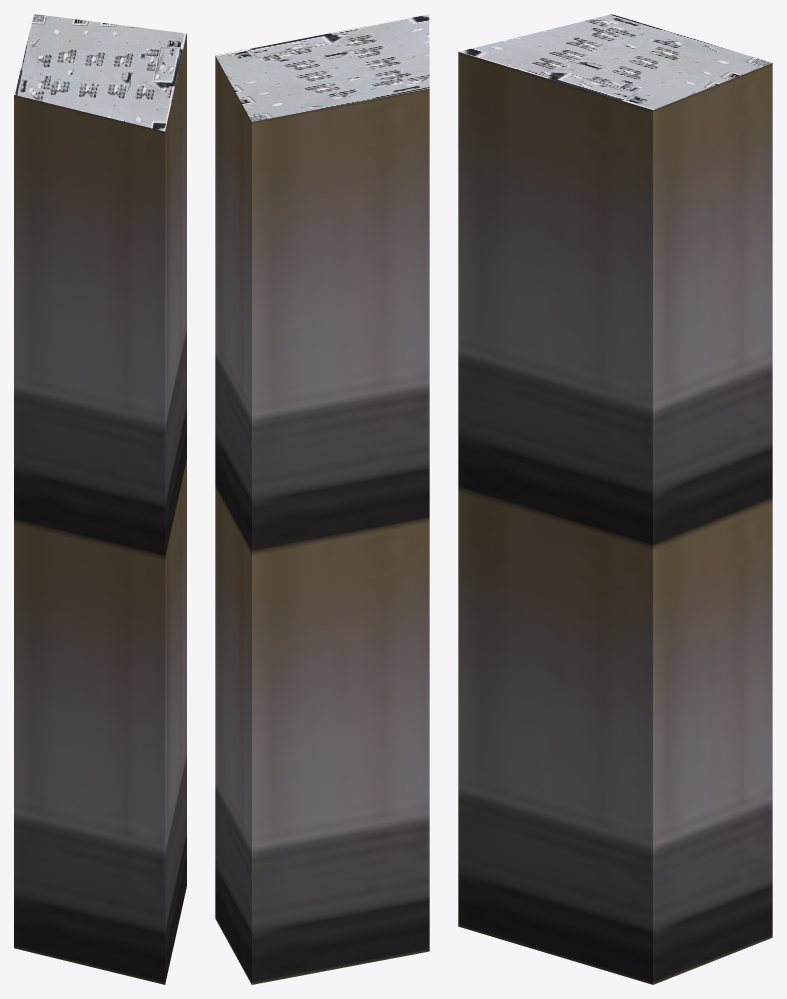
Rendered from ResTex__4313.fbx.
3 views of the same model, side by side, from view 1: azimuth 30°, elevation 25°; view 2: azimuth 150°, elevation 25°; view 3: azimuth 270°, elevation 25° (orthographic). The views are drawn at different scales.
Parts seen in each view (by area): view 1: CityEngineMaterial_5_m, CityEngineMaterial_8_m; view 2: CityEngineMaterial_5_m, CityEngineMaterial_8_m; view 3: CityEngineMaterial_5_m, CityEngineMaterial_8_m.
Boxes of the visible parts, x1,y1,x2,y2 form: CityEngineMaterial_5_m: [14, 34, 186, 984]; CityEngineMaterial_8_m: [14, 14, 186, 131]; CityEngineMaterial_5_m: [215, 56, 429, 984]; CityEngineMaterial_8_m: [215, 14, 429, 121]; CityEngineMaterial_5_m: [458, 52, 772, 984]; CityEngineMaterial_8_m: [459, 14, 771, 109].
Size of the model in its own units: 1.42 by 6 by 1.95.
Materials: 2 (2 with a texture image).
